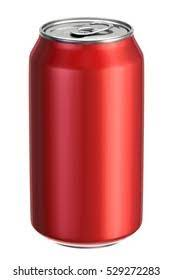drinkpack: (11, 13, 166, 250)
